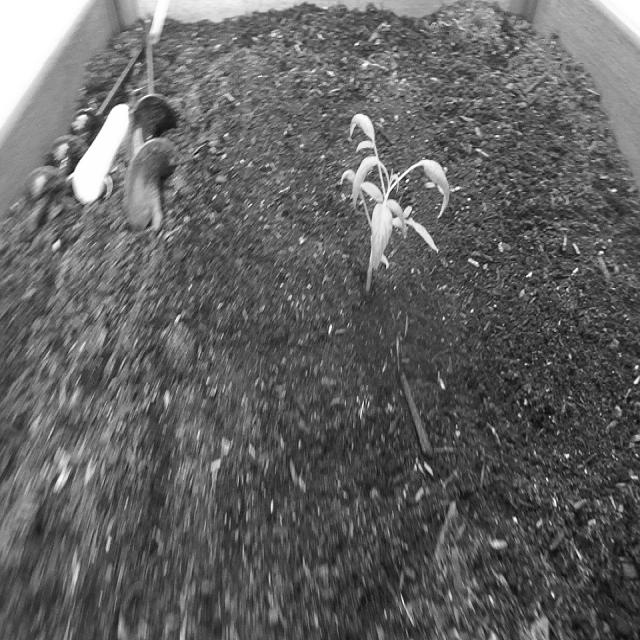Healthy: (337, 108, 456, 296)
